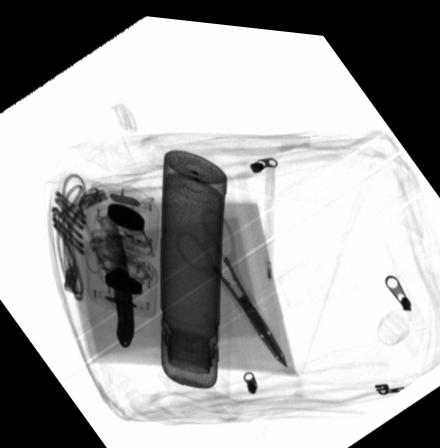Knife: (104, 213, 134, 345)
Scissors: (177, 198, 288, 362)
